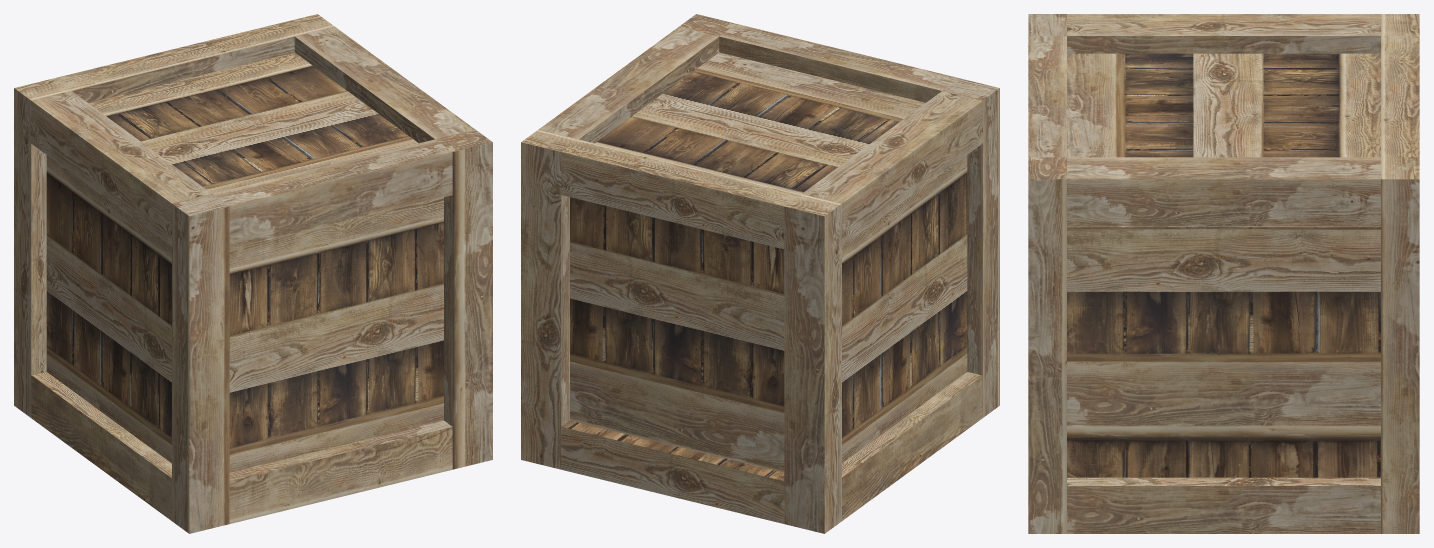
The model's file is puulaatikkio.fbx.
3 views of the same model, side by side, from view 1: azimuth 30°, elevation 25°; view 2: azimuth 150°, elevation 25°; view 3: azimuth 270°, elevation 25° (orthographic). The views are drawn at different scales.
Parts seen in each view (by area): view 1: Cube; view 2: Cube; view 3: Cube.
Part boxes in pixels (x1,y1,x2,y2): Cube: [14, 14, 492, 533]; Cube: [521, 14, 999, 533]; Cube: [1028, 14, 1419, 533].
Bounding box in the file's own units: 200 × 200 × 200.
